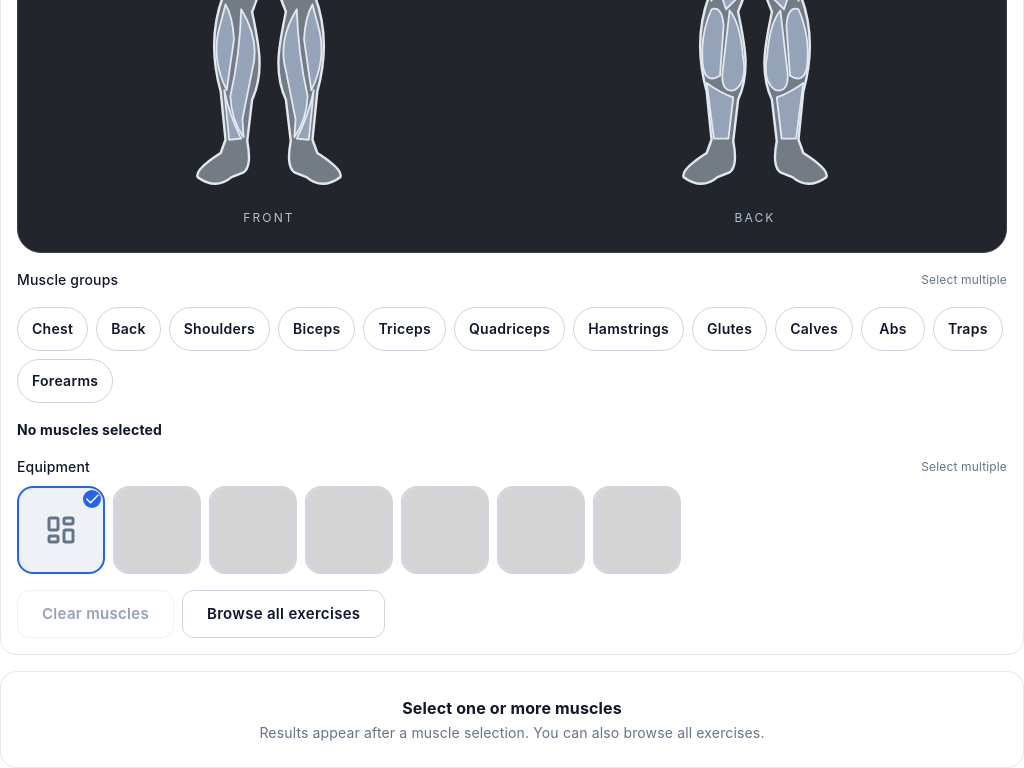
Test: EXERCISE-012 EXERCISE-013 EXERCISE-014 EXERCISE-015 ExerciseDiscovery › starts with a prompt and makes no request until Browse all or a muscle
(page scrolled)
Check: the text "Select one or more muscles" is shown, box [402,698,622,718]
Click the button "Browse all exercises": (284, 614) [182,590,385,638]
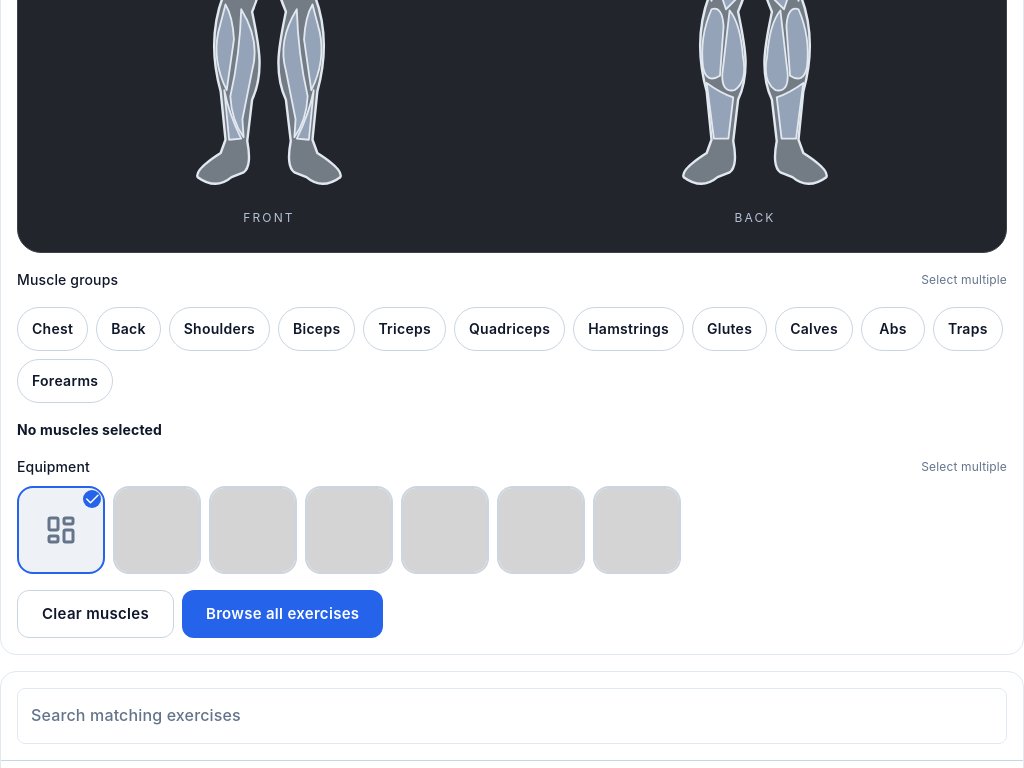
Click the button "Chest": (53, 329) [17,307,88,351]
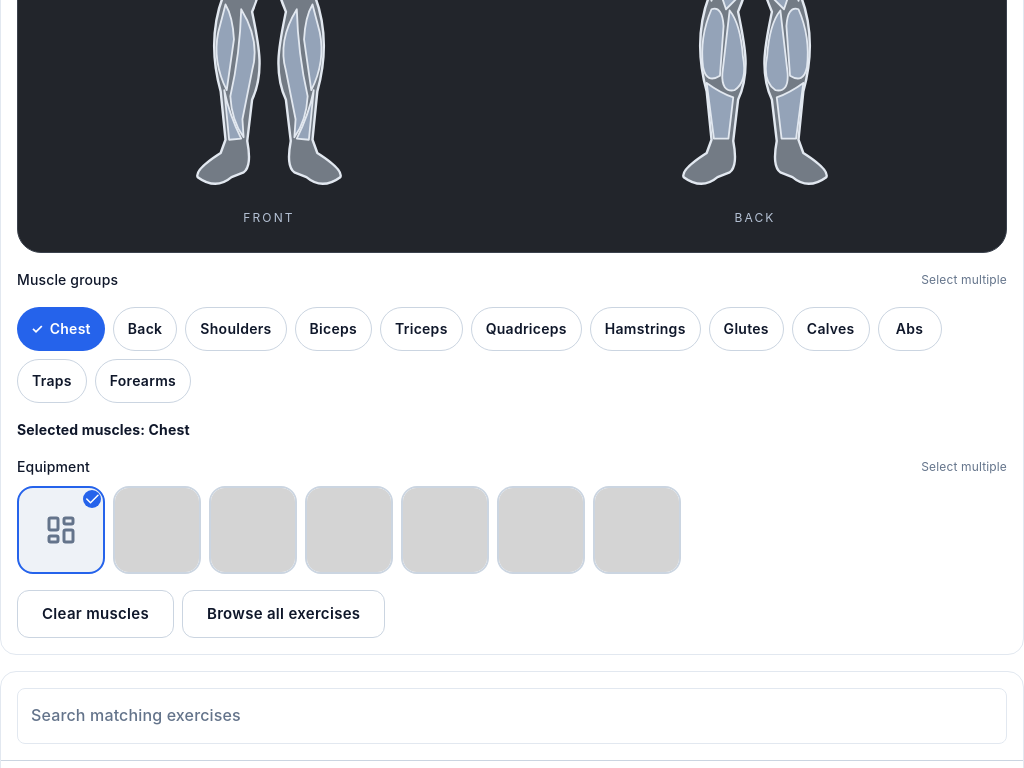
Click the button "Clear muscles": (96, 614) [17,590,174,638]
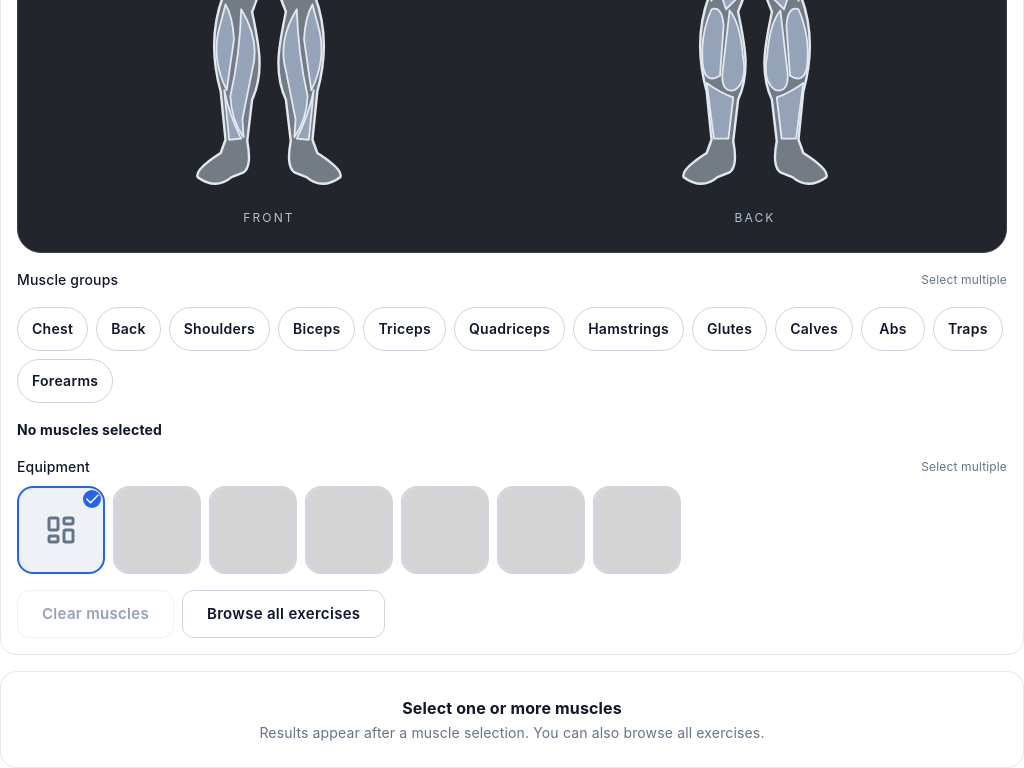
Check: the text "Select one or more muscles" is shown, box [402,698,622,718]
